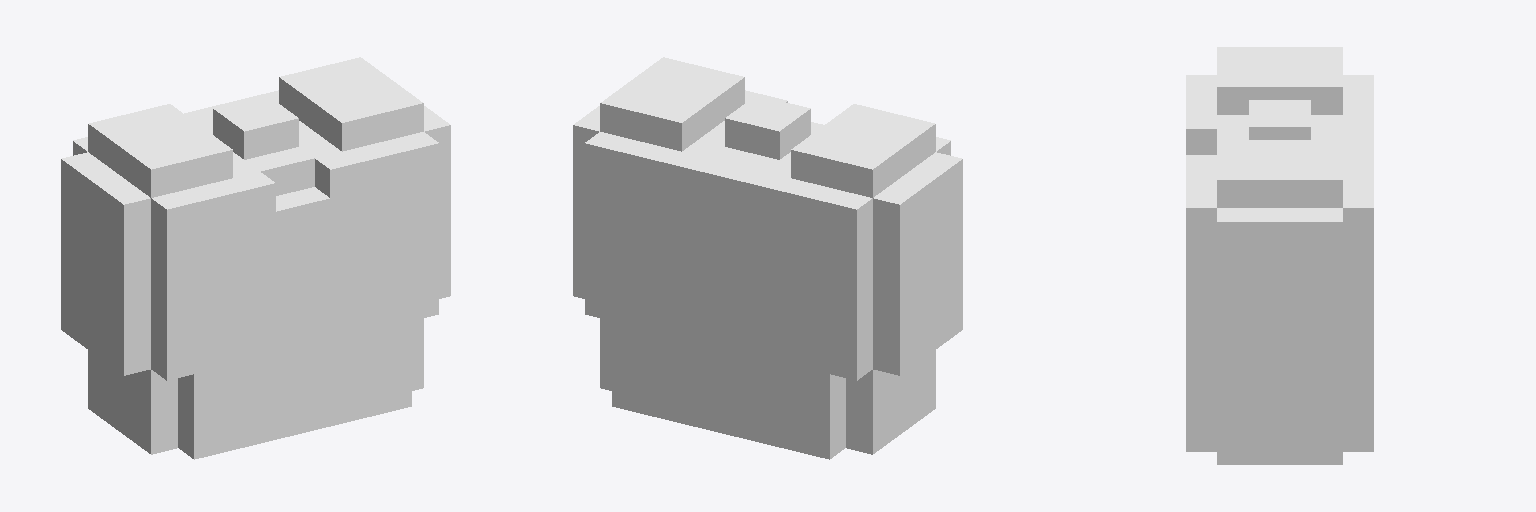
Rendered from male-10.obj.
3 renders of one model, left to right at view 1: azimuth 30°, elevation 25°; view 2: azimuth 150°, elevation 25°; view 3: azimuth 270°, elevation 25°, orthographic.
Visible parts, largest first — view 1: object 1; view 2: object 1; view 3: object 1.
Boxes of the visible parts, x1=… form: object 1: x1=61, y1=57, x2=450, y2=459; object 1: x1=573, y1=57, x2=962, y2=459; object 1: x1=1186, y1=47, x2=1373, y2=464.
Size of the model in its own units: 1.2 by 1 by 0.6.